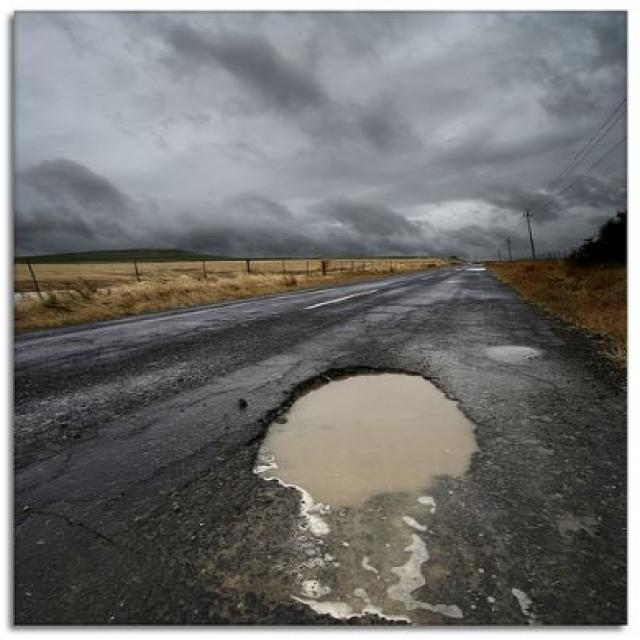pothole: (246, 357, 489, 511)
